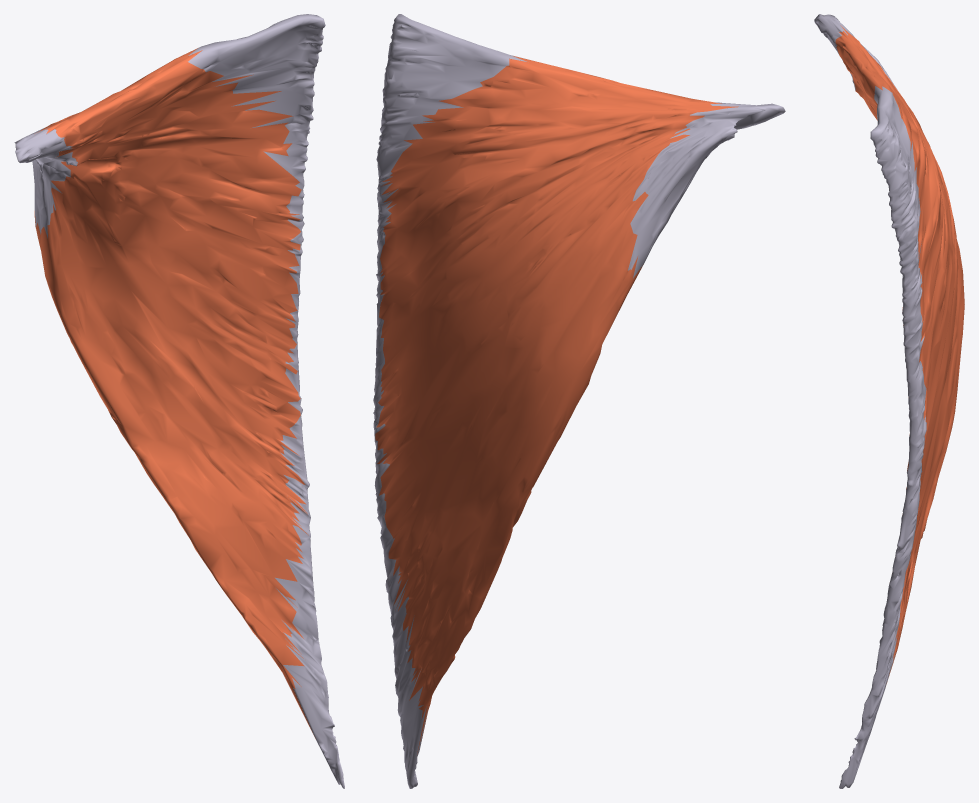
File: Descending_part_of_trapezius_muscle.r_Generated_Mesh_From_X3D.9.glb
3 renders of one model, left to right at view 1: azimuth 30°, elevation 25°; view 2: azimuth 150°, elevation 25°; view 3: azimuth 270°, elevation 25°, orthographic. The views are drawn at different scales.
Parts seen in each view (by area): view 1: Descending_part_of_trapezius_muscle.r_Generated_Mesh_From_X3; view 2: Descending_part_of_trapezius_muscle.r_Generated_Mesh_From_X3; view 3: Descending_part_of_trapezius_muscle.r_Generated_Mesh_From_X3.
Part boxes in pixels (bbox=[...]): Descending_part_of_trapezius_muscle.r_Generated_Mesh_From_X3: bbox=[14, 14, 344, 788]; Descending_part_of_trapezius_muscle.r_Generated_Mesh_From_X3: bbox=[373, 14, 785, 788]; Descending_part_of_trapezius_muscle.r_Generated_Mesh_From_X3: bbox=[814, 14, 964, 788].
Size of the model in its own units: 0.1389 by 0.2942 by 0.0611.
